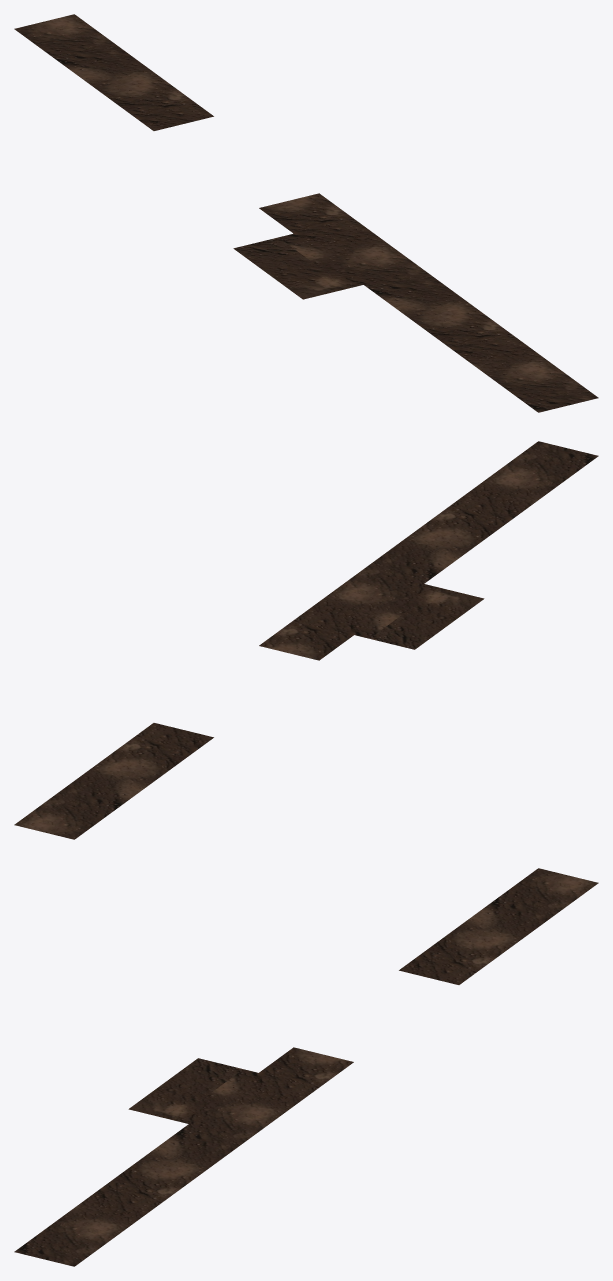
The model's file is floor_-3_-7.glb.
3 views of the same model, one above another, from view 1: azimuth 30°, elevation 25°; view 2: azimuth 150°, elevation 25°; view 3: azimuth 330°, elevation 25° (orthographic).
Visible parts, largest first — view 1: floor_-3_-7; view 2: floor_-3_-7; view 3: floor_-3_-7.
Part boxes in pixels (x1,y1,x2,y2): floor_-3_-7: (14,14,598,412); floor_-3_-7: (14,441,598,839); floor_-3_-7: (14,868,598,1266).
Bounding box in the file's own units: 8 × 0 × 60.
1 material, 1 textured.
